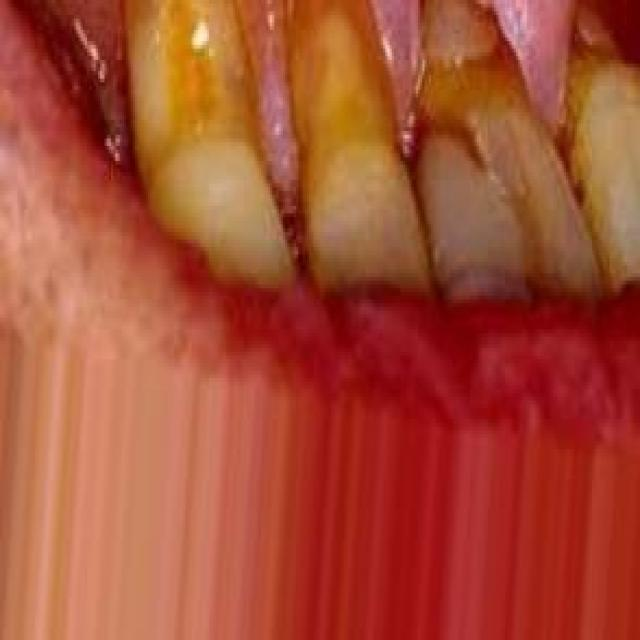caries: (410, 0, 530, 177)
